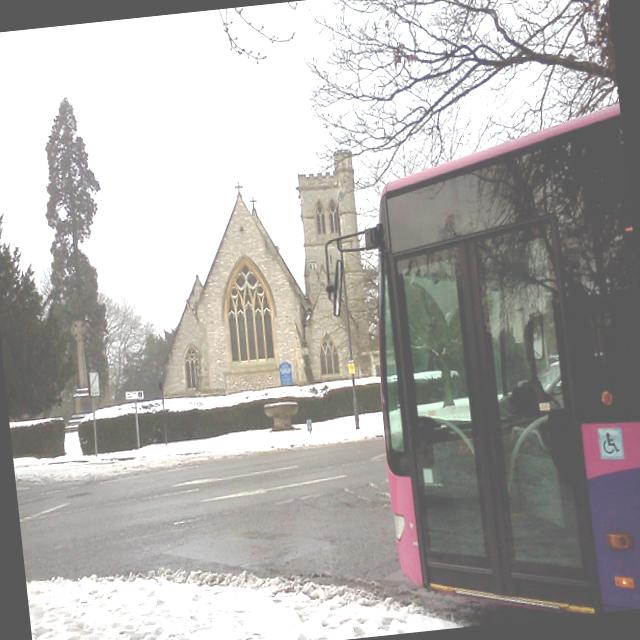Vehicle: (307, 99, 640, 636)
